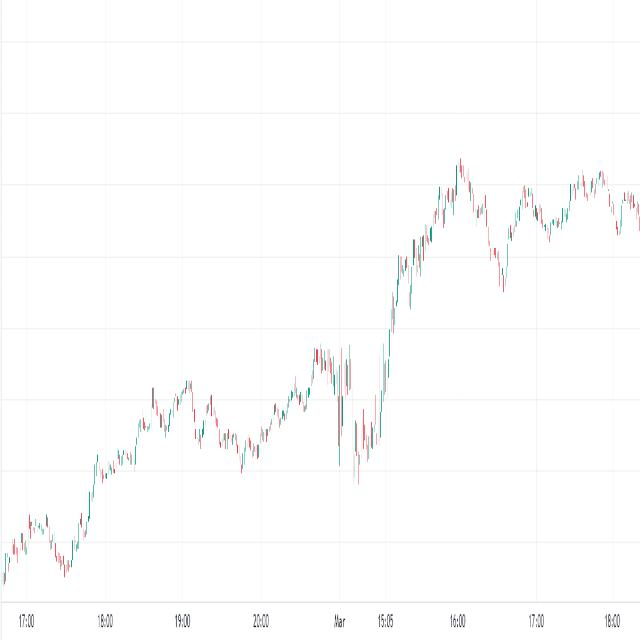Ascending-Triangle: (469, 163, 633, 322)
Channel-up: (396, 129, 466, 341)
Rounding-Bottom: (208, 370, 296, 478)
